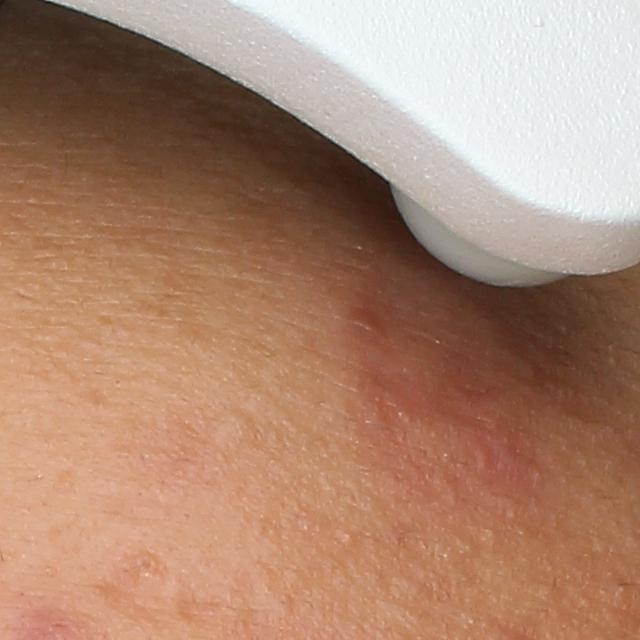comedo: (216, 408, 250, 443), (336, 525, 358, 550)
